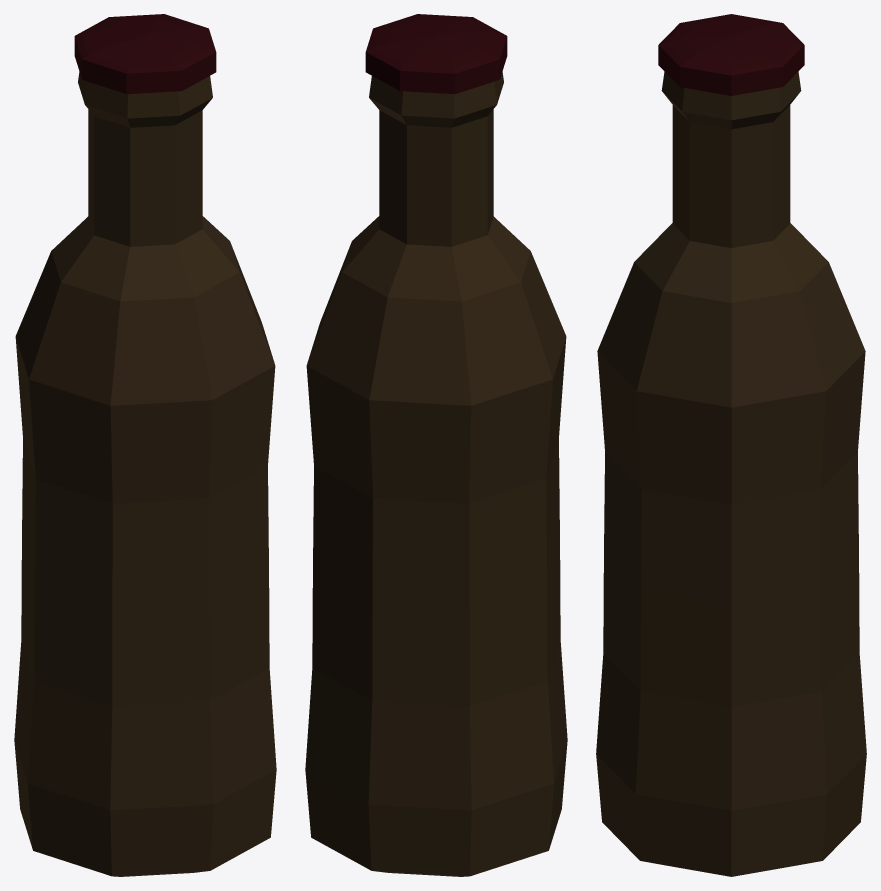
The model's file is (B)Bottle(closed).fbx.
The picture shows the model from 3 angles, left to right: view 1: azimuth 30°, elevation 25°; view 2: azimuth 150°, elevation 25°; view 3: azimuth 270°, elevation 25°; orthographic projection.
Visible parts, largest first — view 1: Cylinder; view 2: Cylinder; view 3: Cylinder.
Part boxes in pixels (bbox=[...]): Cylinder: bbox=[14, 14, 276, 876]; Cylinder: bbox=[305, 14, 567, 876]; Cylinder: bbox=[596, 14, 866, 876].
Bounding box in the file's own units: 56.61 × 185 × 56.61.
